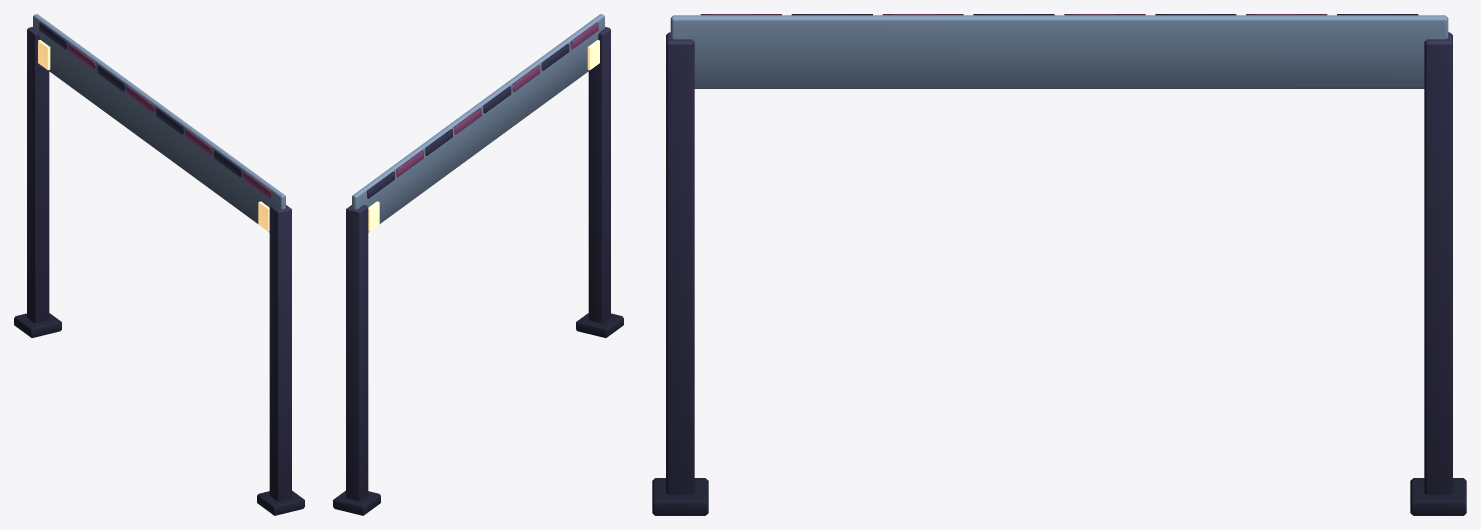
The model's file is speedway_night_jump_banner.glb.
3 renders of one model, left to right at view 1: azimuth 30°, elevation 25°; view 2: azimuth 150°, elevation 25°; view 3: azimuth 270°, elevation 25°, orthographic. The views are drawn at different scales.
Parts seen in each view (by area): view 1: Jump zone support; view 2: Jump zone support; view 3: Jump zone support.
Part boxes in pixels (x1,y1,x2,y2): Jump zone support: (14,14,304,515); Jump zone support: (333,14,623,515); Jump zone support: (652,14,1466,515).
Bounding box in the file's own units: 0.48 × 4.51 × 6.81.
